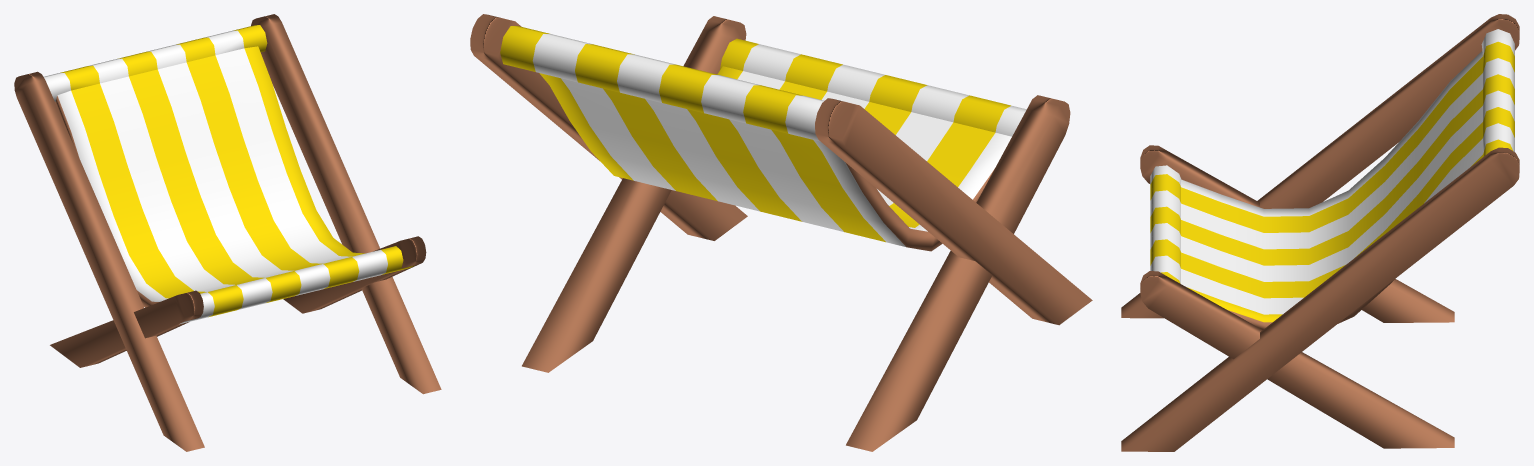
File: deck_chair_yellow.fbx
3 views of the same model, side by side, from view 1: azimuth 30°, elevation 25°; view 2: azimuth 150°, elevation 25°; view 3: azimuth 270°, elevation 25° (orthographic). The views are drawn at different scales.
Visible parts, largest first — view 1: deck_chair_yellow; view 2: deck_chair_yellow; view 3: deck_chair_yellow.
Boxes of the visible parts, x1,y1,x2,y2 form: deck_chair_yellow: [14, 14, 441, 451]; deck_chair_yellow: [470, 14, 1092, 451]; deck_chair_yellow: [1121, 14, 1519, 451].
Size of the model in its own units: 0.7386 by 0.7048 by 0.8637.
